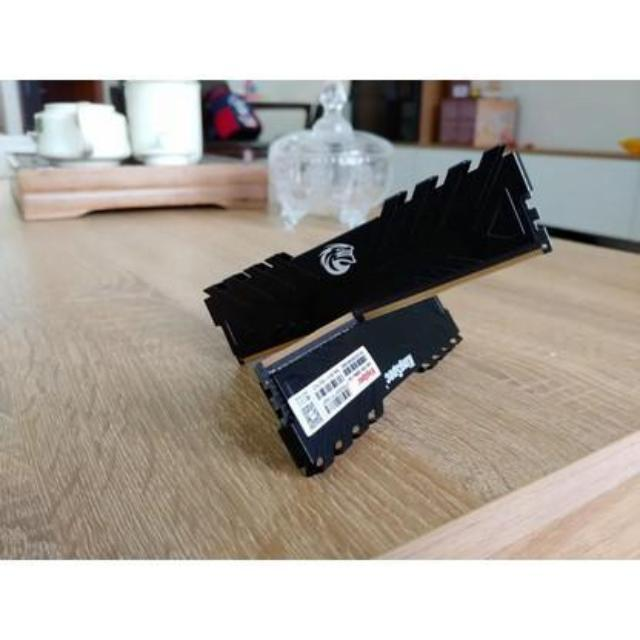RAM: (194, 137, 554, 485)
